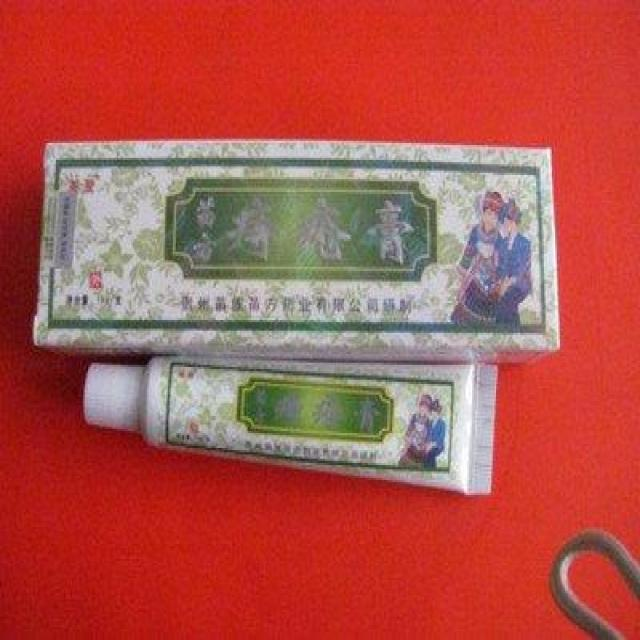-Hazardous waste - medicine inner packaging-: (84, 360, 500, 498)
-Recyclables - paper box-: (31, 138, 562, 362)
